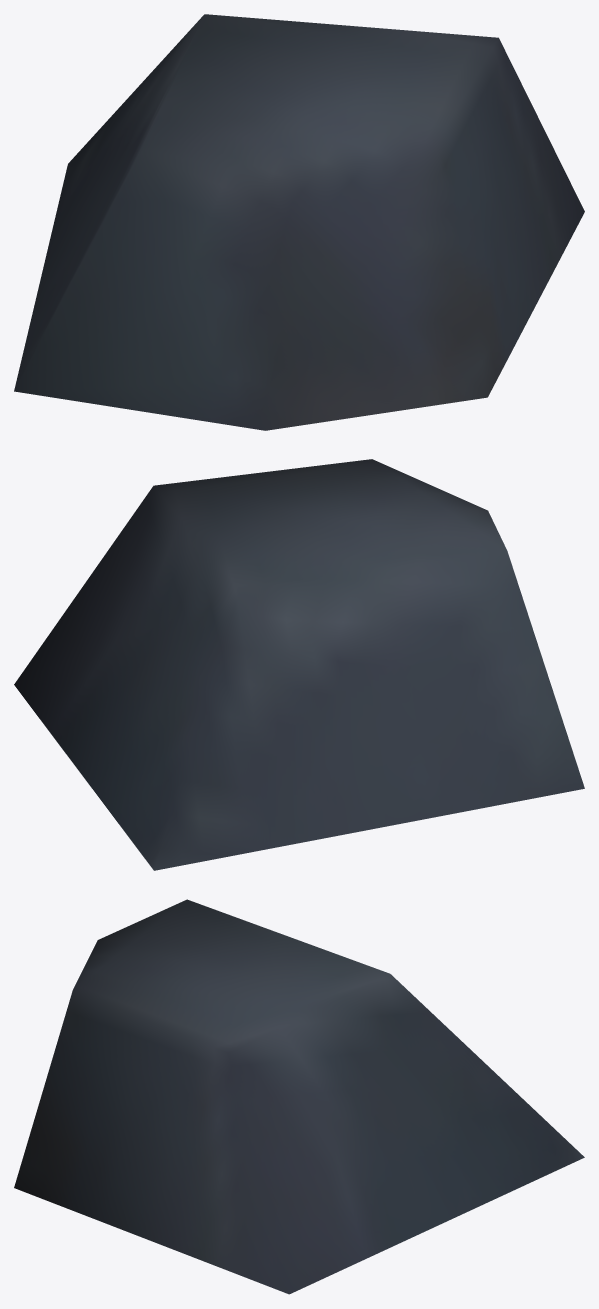
File: Area_13_42.fbx
The picture shows the model from 3 angles, top to bottom: view 1: azimuth 30°, elevation 25°; view 2: azimuth 150°, elevation 25°; view 3: azimuth 270°, elevation 25°; orthographic projection. The views are drawn at different scales.
Visible parts, largest first — view 1: Area_13_42; view 2: Area_13_42; view 3: Area_13_42.
Boxes of the visible parts, x1,y1,x2,y2 form: Area_13_42: (14,14,584,430); Area_13_42: (14,459,584,870); Area_13_42: (14,899,584,1294).
Size of the model in its own units: 67.53 by 24.34 by 65.78.
